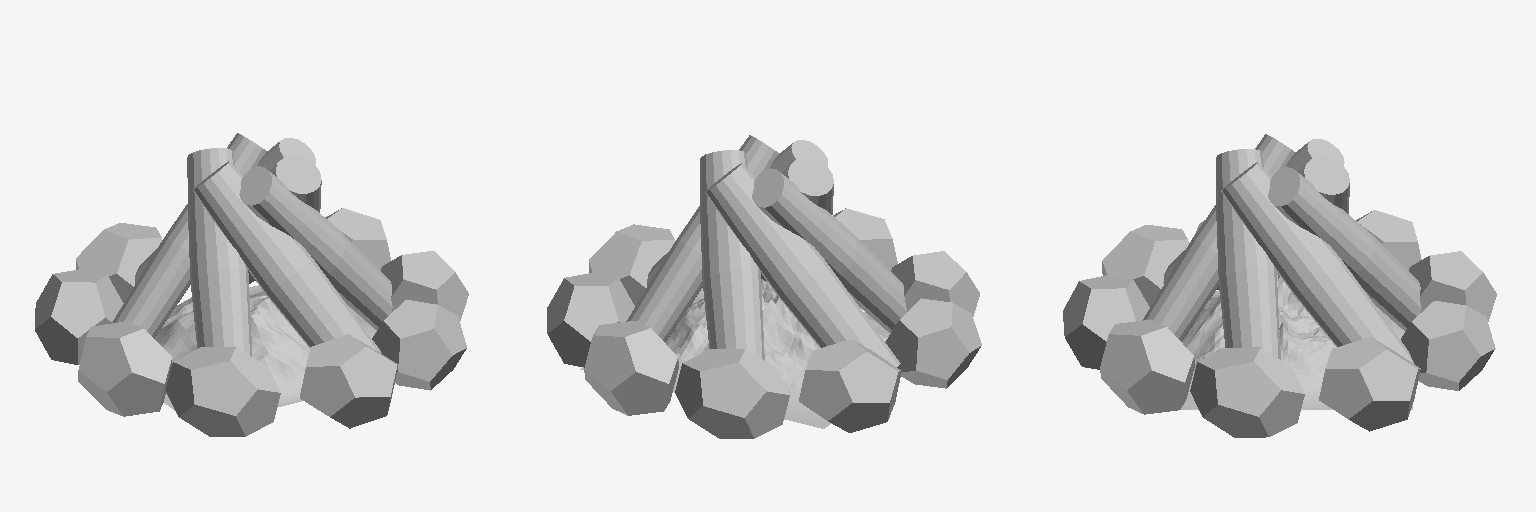
The model's file is PlaceholderCampfire.obj.
3 renders of one model, left to right at view 1: azimuth 30°, elevation 25°; view 2: azimuth 150°, elevation 25°; view 3: azimuth 270°, elevation 25°, orthographic.
Visible parts, largest first — view 1: Cylinder_3, Cylinder_4, Platonic_4, Cylinder_2, Platonic_5, Platonic_3, Ash, Platonic_2, Platonic_6, Cylinder_5, Platonic_1, Platonic_7 (+3 smaller); view 2: Cylinder_5, Cylinder_0, Platonic_7, Cylinder_4, Platonic_8, Platonic_6, Ash, Platonic_5, Cylinder_1, Platonic_0, Platonic_1, Platonic_4 (+3 smaller); view 3: Cylinder_1, Cylinder_2, Platonic_1, Cylinder_0, Platonic_2, Platonic_0, Ash, Platonic_8, Cylinder_3, Platonic_3, Platonic_4, Platonic_7 (+3 smaller).
Part boxes in pixels (bbox=[...]): Cylinder_3: bbox=[193, 161, 381, 353]; Cylinder_4: bbox=[187, 148, 251, 356]; Platonic_4: bbox=[165, 347, 280, 436]; Cylinder_2: bbox=[239, 166, 392, 330]; Platonic_5: bbox=[78, 321, 171, 416]; Platonic_3: bbox=[300, 334, 397, 428]; Ash: bbox=[155, 285, 376, 410]; Platonic_2: bbox=[372, 300, 466, 390]; Platonic_6: bbox=[35, 269, 123, 364]; Cylinder_5: bbox=[112, 133, 266, 338]; Platonic_1: bbox=[381, 251, 468, 320]; Platonic_7: bbox=[76, 223, 161, 302]; Cylinder_5: bbox=[705, 163, 900, 366]; Cylinder_0: bbox=[700, 150, 764, 360]; Platonic_7: bbox=[675, 349, 789, 438]; Cylinder_4: bbox=[752, 168, 906, 332]; Platonic_8: bbox=[584, 321, 678, 415]; Platonic_6: bbox=[799, 339, 901, 432]; Ash: bbox=[580, 279, 890, 428]; Platonic_5: bbox=[885, 298, 981, 388]; Cylinder_1: bbox=[626, 135, 779, 342]; Platonic_0: bbox=[547, 273, 634, 367]; Platonic_1: bbox=[589, 224, 674, 305]; Platonic_4: bbox=[891, 251, 979, 316]; Cylinder_1: bbox=[1221, 162, 1413, 363]; Cylinder_2: bbox=[1216, 149, 1280, 359]; Platonic_1: bbox=[1190, 347, 1304, 437]; Cylinder_0: bbox=[1268, 167, 1421, 331]; Platonic_2: bbox=[1100, 319, 1194, 414]; Platonic_0: bbox=[1319, 337, 1420, 431]; Ash: bbox=[1181, 272, 1412, 409]; Platonic_8: bbox=[1401, 301, 1495, 390]; Cylinder_3: bbox=[1142, 134, 1295, 340]; Platonic_3: bbox=[1063, 275, 1149, 369]; Platonic_4: bbox=[1102, 225, 1188, 306]; Platonic_7: bbox=[1409, 251, 1496, 321].
Size of the model in its own units: 49.99 by 25.98 by 49.62.